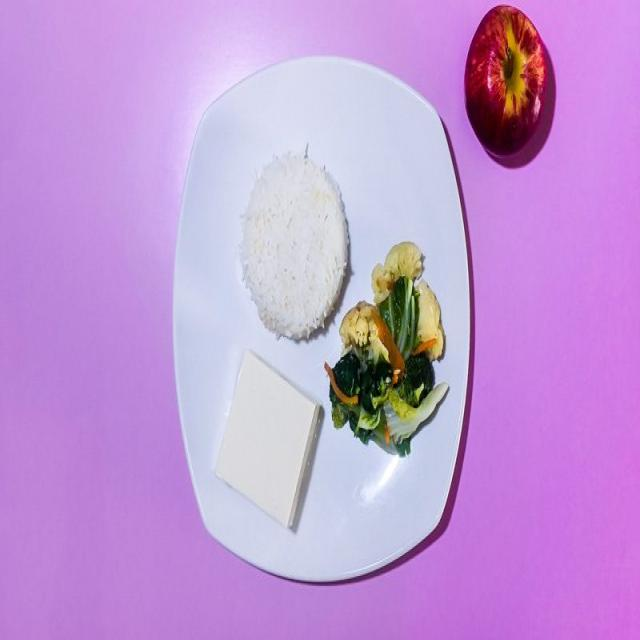Fruits: (464, 4, 555, 166)
Green veg: (330, 276, 448, 455)
Non green veg: (339, 242, 444, 378)
Rice: (242, 146, 348, 338)
Tofu: (216, 351, 320, 526)
